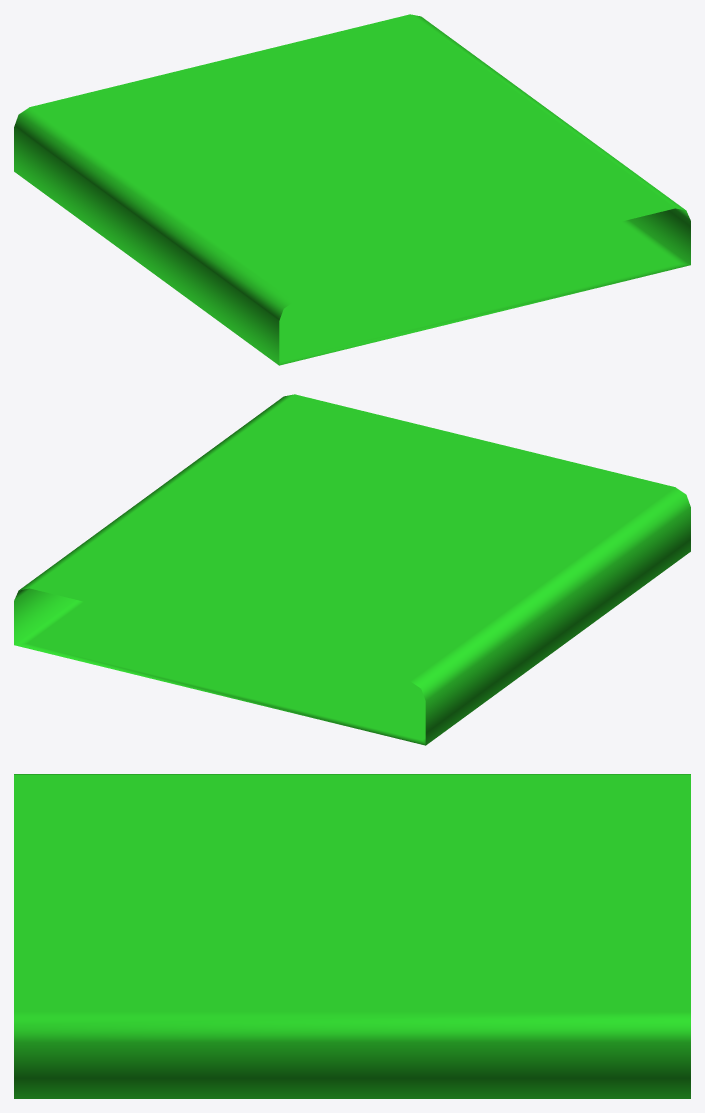
File: ContainerLidStraight.fbx
3 renders of one model, top to bottom at view 1: azimuth 30°, elevation 25°; view 2: azimuth 150°, elevation 25°; view 3: azimuth 270°, elevation 25°, orthographic. The views are drawn at different scales.
Visible parts, largest first — view 1: ContainerLidStraight; view 2: ContainerLidStraight; view 3: ContainerLidStraight.
Part boxes in pixels (box(x1,y1,x2,y2)): ContainerLidStraight: box(14, 14, 690, 365); ContainerLidStraight: box(14, 394, 690, 745); ContainerLidStraight: box(14, 774, 690, 1098).
Size of the model in its own units: 44.83 by 6.3 by 50.
